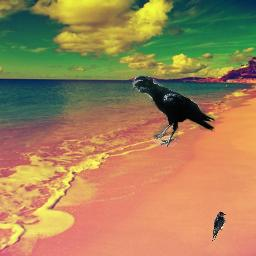Crow: (132, 75, 215, 147)
Swallow: (211, 211, 226, 242)
